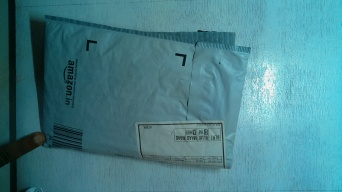a: (41, 10, 245, 171)
